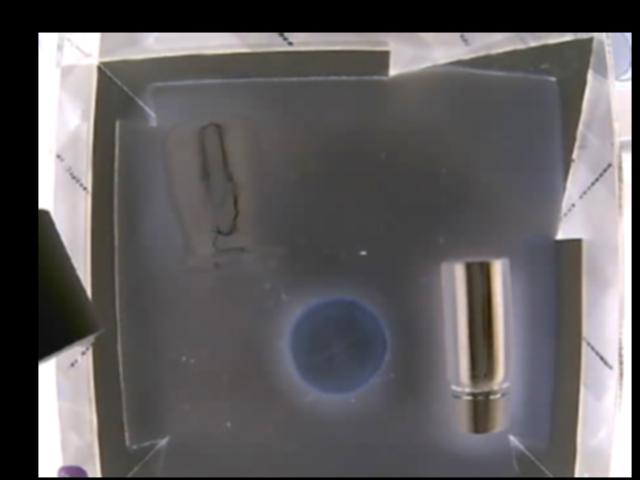Bottle: (159, 120, 256, 267), (442, 257, 512, 433)
Mooli: (285, 301, 393, 397)
